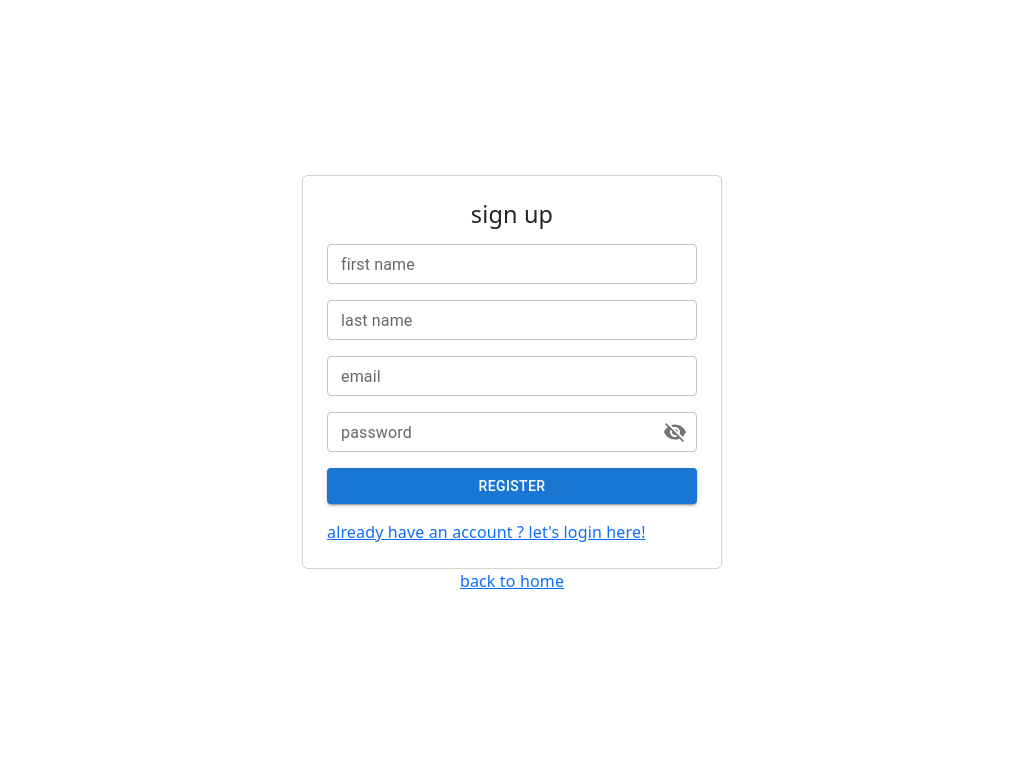
Test: signup page › shows error modal when api fails
This screenshot has width=1024, height=768.
Type "john" into the field labelled "first name" at coordinates (512, 264), box [327,244,697,284]
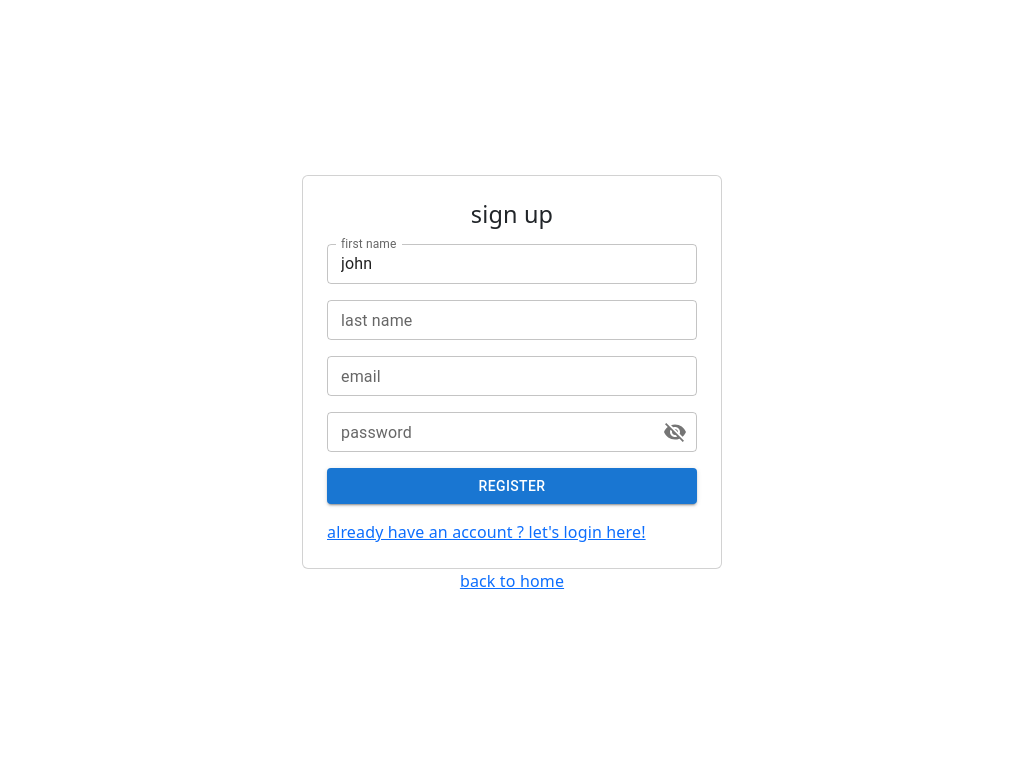
Type "doe" into the field labelled "last name" at coordinates (512, 320), box [327,300,697,340]
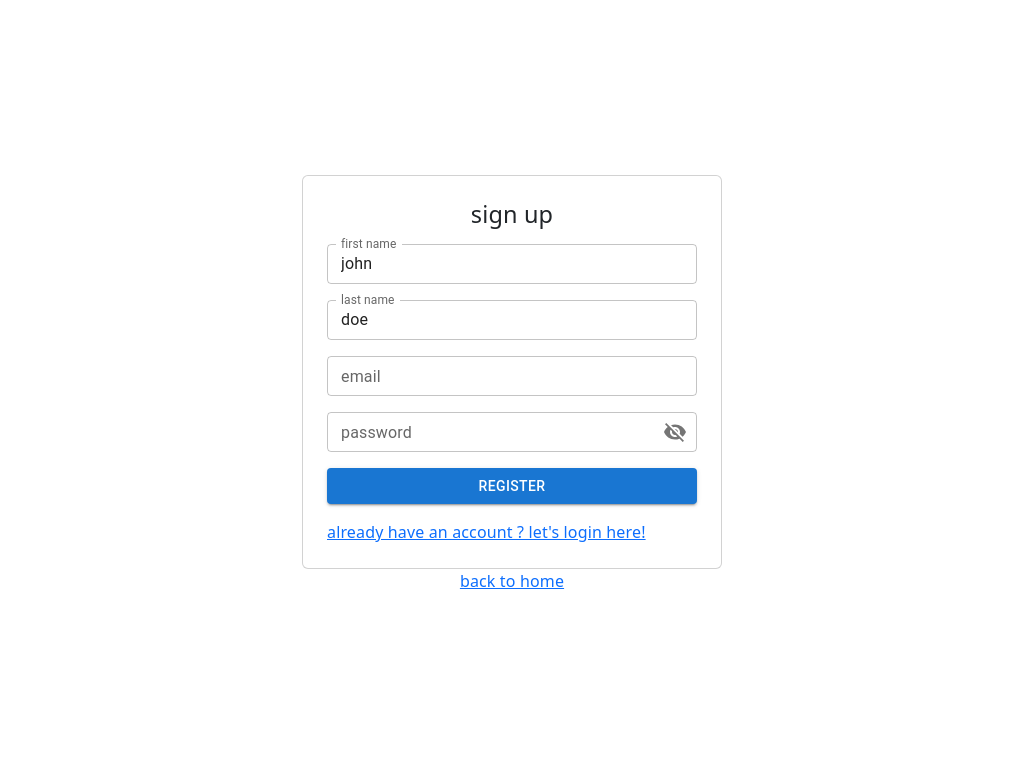
Type "john@example.com" into the field labelled "email" at coordinates (512, 376), box [327,356,697,396]
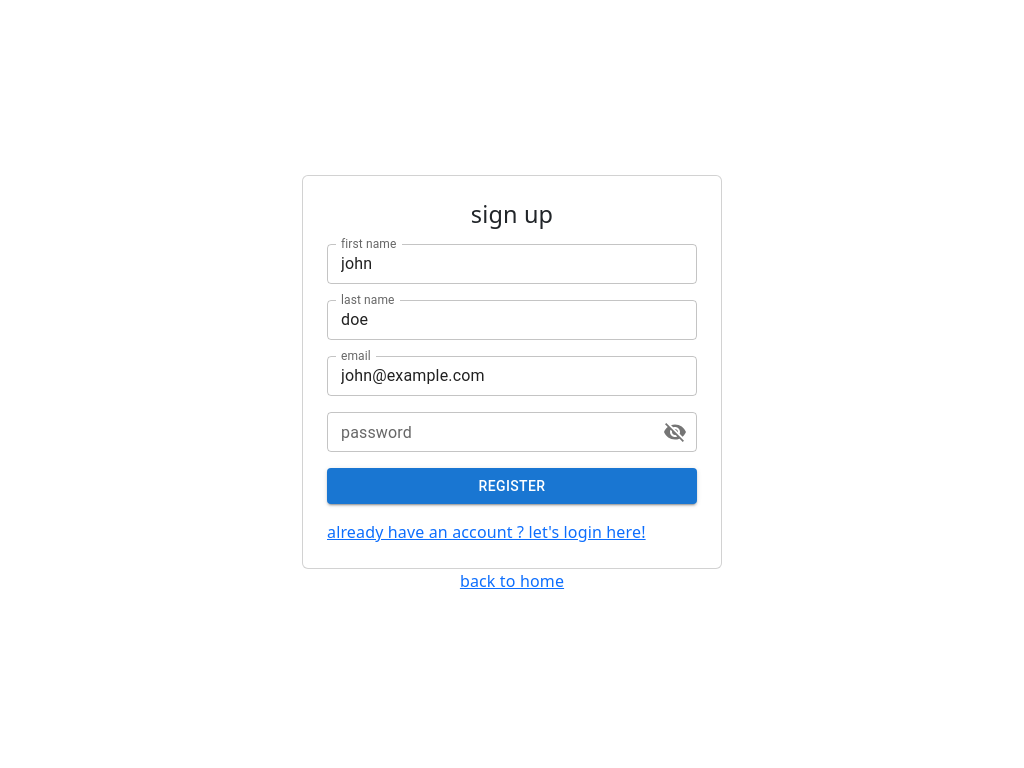
Type "1234567890" into the password field labelled "password" at coordinates (487, 432), box [327,412,647,452]
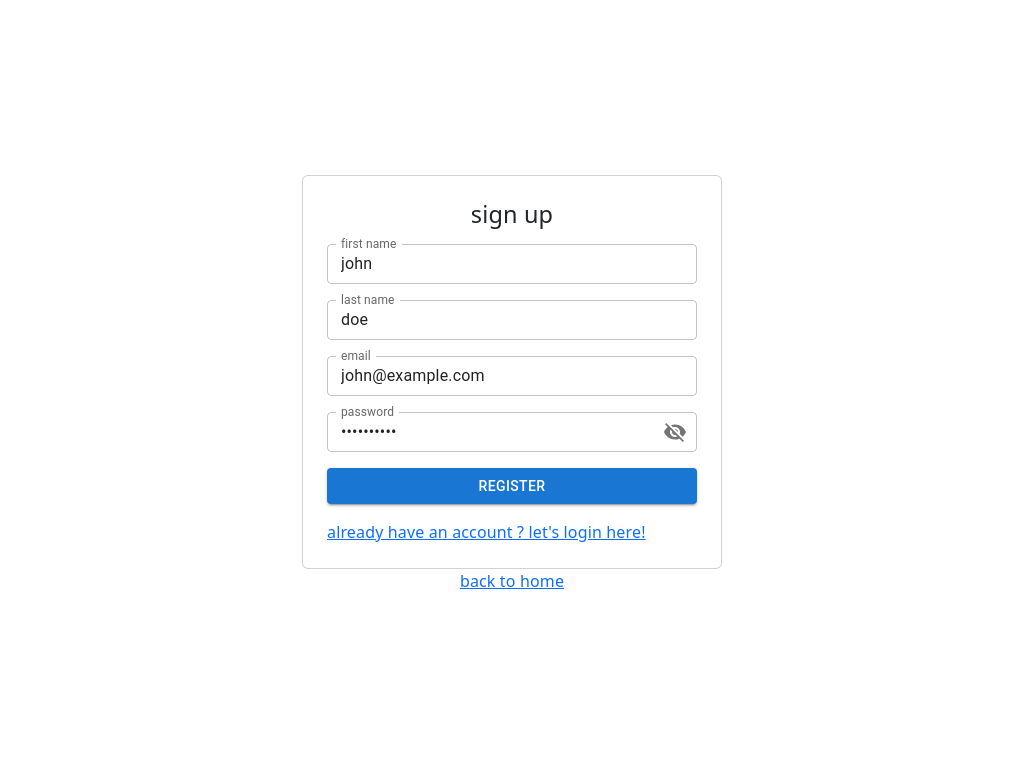
Click the button "register" at coordinates (512, 486), box [327,468,697,504]
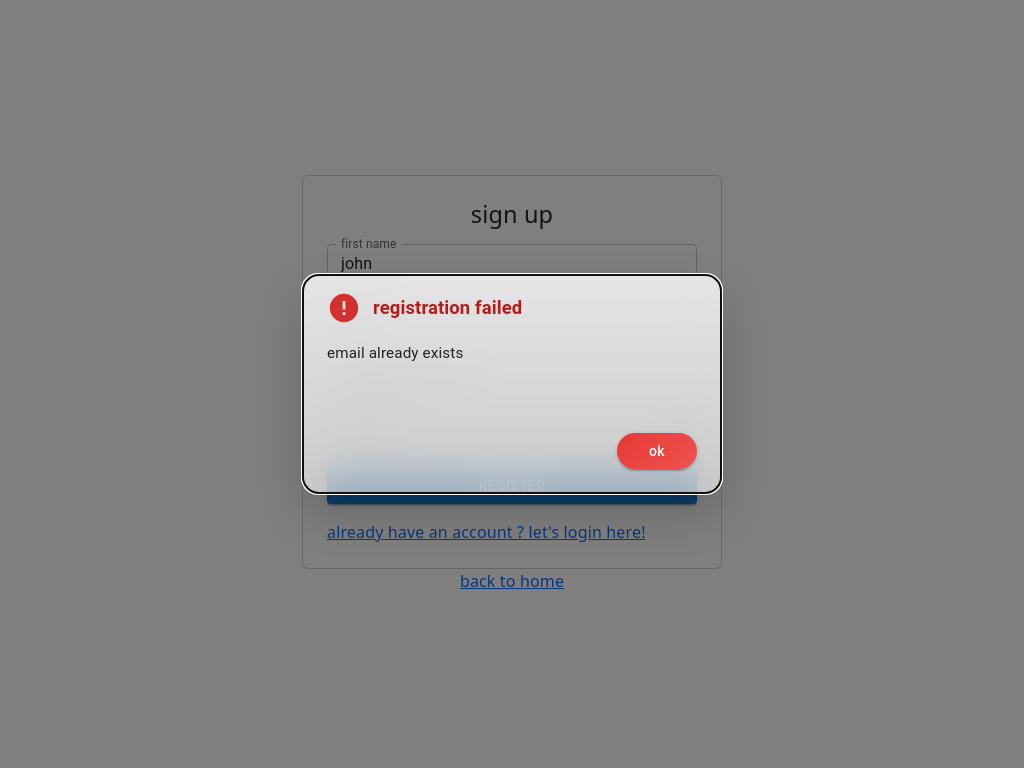
Expected: the heading "registration failed" is shown, [327,291,522,325]
Expected: the text "email already exists" is shown, [327,344,463,362]
